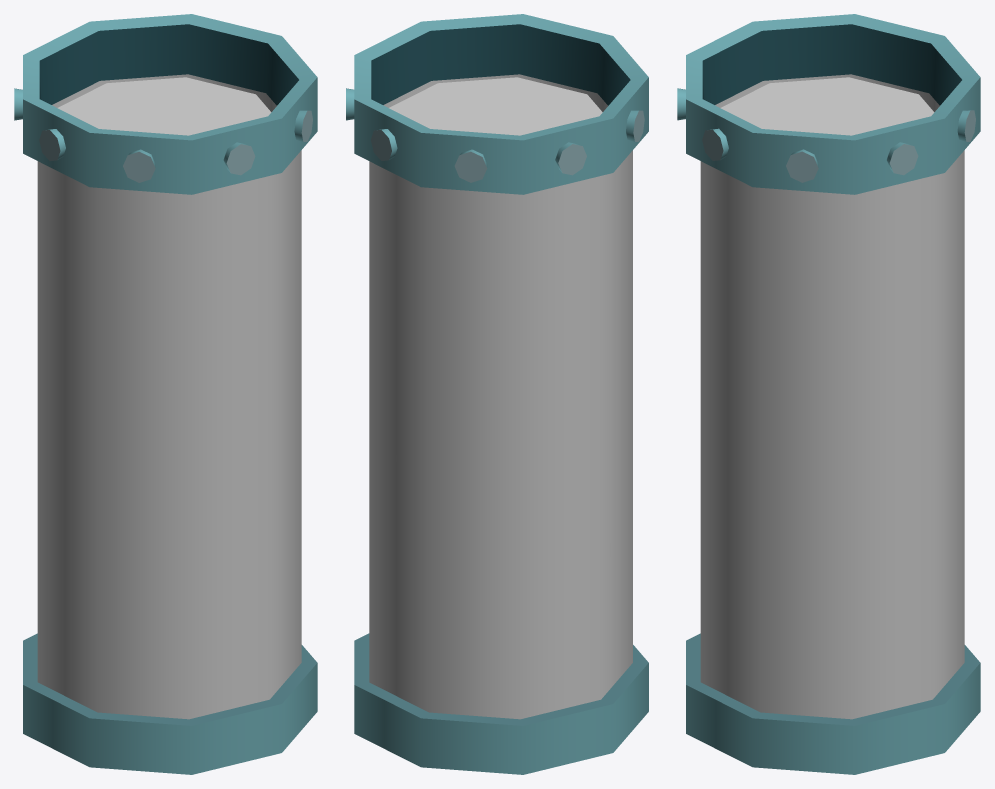
Rendered from Pod.fbx.
3 views of the same model, side by side, from view 1: azimuth 30°, elevation 25°; view 2: azimuth 150°, elevation 25°; view 3: azimuth 270°, elevation 25° (orthographic).
Visible parts, largest first — view 1: Pod, CordHolder, PodWater; view 2: Pod, CordHolder, PodWater; view 3: Pod, CordHolder, PodWater.
Boxes of the visible parts, x1,y1,x2,y2 form: Pod: (37, 74, 301, 719); CordHolder: (14, 14, 317, 774); PodWater: (57, 77, 271, 135); Pod: (369, 74, 632, 719); CordHolder: (346, 14, 648, 774); PodWater: (389, 77, 602, 135); Pod: (700, 74, 964, 719); CordHolder: (677, 14, 980, 774); PodWater: (720, 77, 934, 135).
Bounding box in the file's own units: 178 × 412 × 178.
